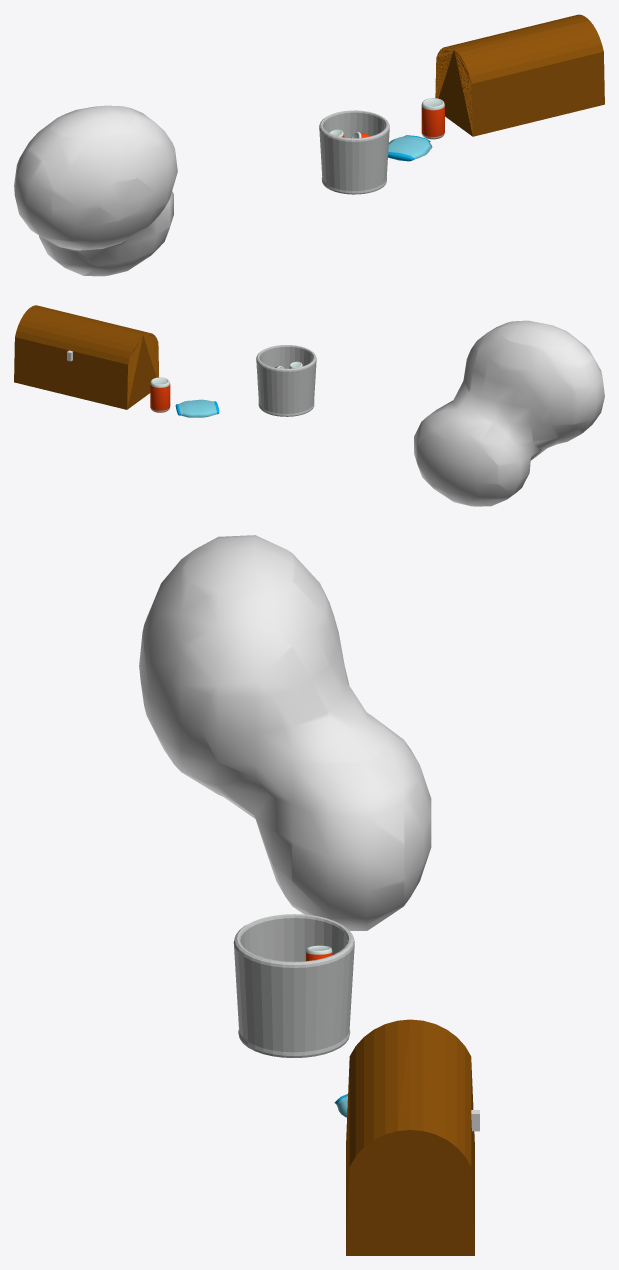
File: can.fbx
The picture shows the model from 3 angles, top to bottom: view 1: azimuth 30°, elevation 25°; view 2: azimuth 150°, elevation 25°; view 3: azimuth 270°, elevation 25°; orthographic projection. The views are drawn at different scales.
Parts seen in each view (by area): view 1: Mball, Cylinder, Cylinder.002, Cylinder.001, Cube.001; view 2: Mball, Cylinder, Cylinder.002, Cylinder.001, Cube.001; view 3: Mball, Cylinder, Cylinder.002.
Boxes of the visible parts, bbox=[...] form: Mball: bbox=[14, 105, 177, 276]; Cylinder: bbox=[435, 14, 604, 136]; Cylinder.002: bbox=[319, 110, 389, 194]; Cylinder.001: bbox=[421, 98, 444, 139]; Cube.001: bbox=[388, 135, 432, 161]; Mball: bbox=[414, 320, 604, 506]; Cylinder: bbox=[14, 305, 158, 409]; Cylinder.002: bbox=[256, 345, 316, 416]; Cylinder.001: bbox=[150, 377, 170, 412]; Cube.001: bbox=[175, 399, 219, 417]; Mball: bbox=[139, 535, 431, 930]; Cylinder: bbox=[346, 1019, 474, 1255]; Cylinder.002: bbox=[233, 914, 354, 1057].
Size of the model in its own units: 1853 by 552 by 518.
